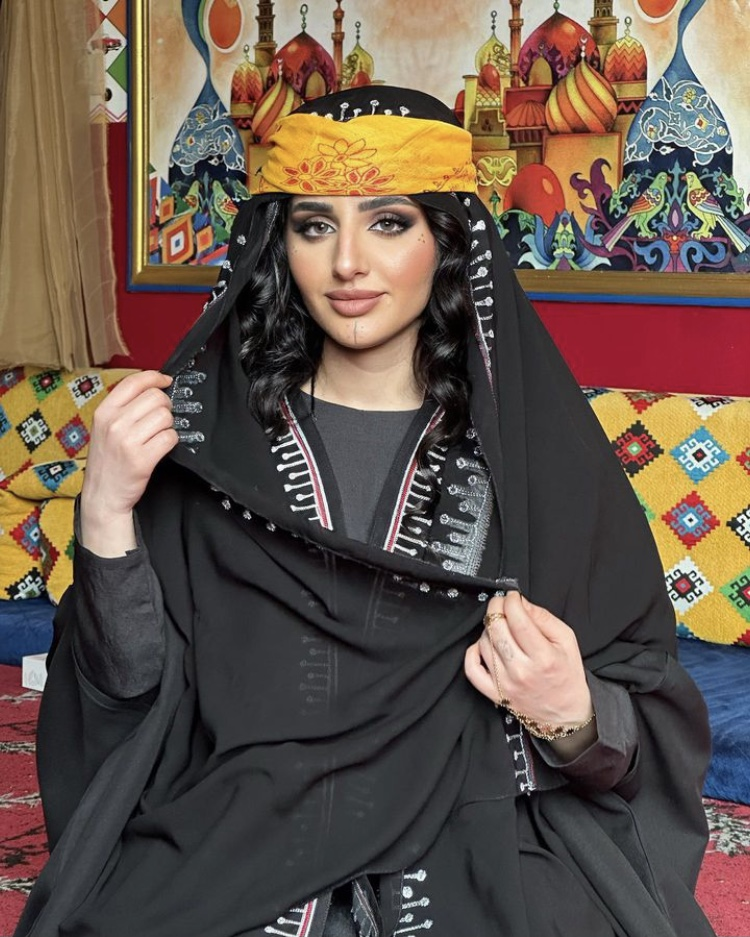Saudi_Founding_Day: (13, 85, 723, 934)
